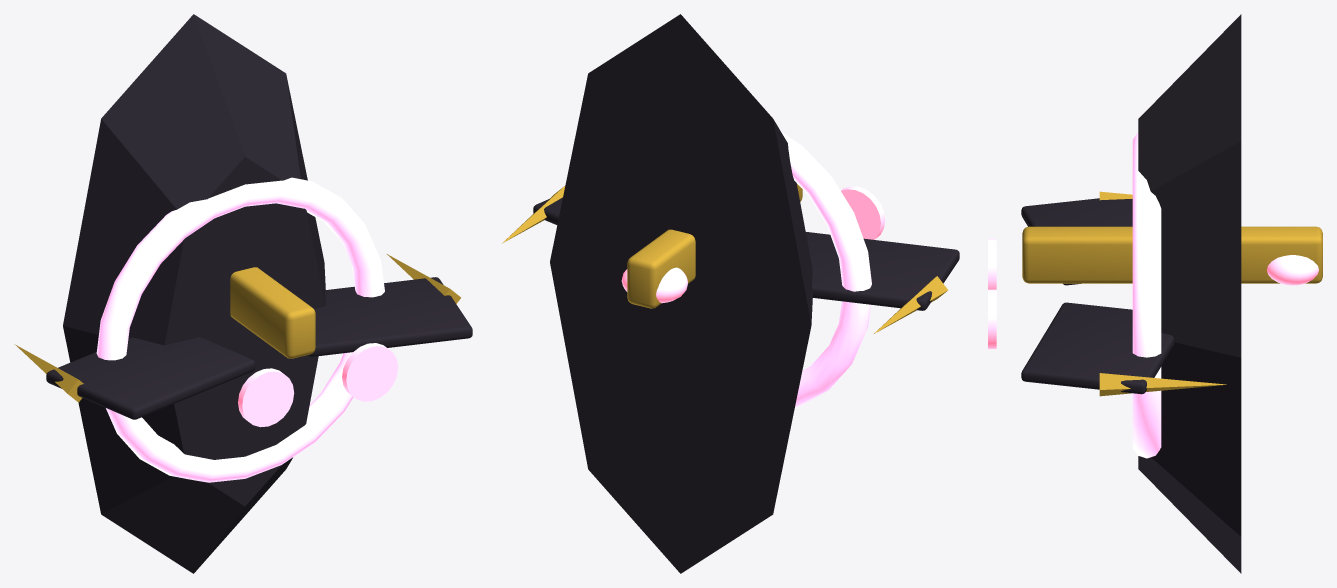
File: pirate_marauder.glb
3 renders of one model, left to right at view 1: azimuth 30°, elevation 25°; view 2: azimuth 150°, elevation 25°; view 3: azimuth 270°, elevation 25°, orthographic.
Visible parts, largest first — view 1: Hull, Ring, Wing-1, Wing1, Spine, Engine, Engine.001, Blade-1; view 2: Hull, Ring, Wing-1, Spine, Engine, Eye, Blade-1; view 3: Hull, Spine, Wing1, Ring, Wing-1, Blade1, Eye, Engine.001, Engine.
Boxes of the visible parts, x1=… form: Hull: x1=63, y1=14, x2=325, y2=573; Ring: x1=96, y1=177, x2=384, y2=482; Wing-1: x1=46, y1=337, x2=255, y2=419; Wing1: x1=308, y1=277, x2=472, y2=356; Spine: x1=230, y1=267, x2=315, y2=358; Engine: x1=238, y1=368, x2=294, y2=427; Engine.001: x1=342, y1=343, x2=398, y2=401; Blade-1: x1=14, y1=344, x2=83, y2=402; Hull: x1=550, y1=14, x2=812, y2=573; Ring: x1=781, y1=131, x2=871, y2=407; Wing-1: x1=805, y1=232, x2=959, y2=310; Spine: x1=627, y1=184, x2=802, y2=308; Engine: x1=841, y1=186, x2=885, y2=239; Eye: x1=621, y1=267, x2=687, y2=303; Blade-1: x1=874, y1=276, x2=947, y2=333; Hull: x1=1138, y1=14, x2=1241, y2=573; Spine: x1=1022, y1=226, x2=1322, y2=283; Wing1: x1=1021, y1=302, x2=1174, y2=394; Ring: x1=1132, y1=132, x2=1161, y2=458; Wing-1: x1=1021, y1=198, x2=1132, y2=285; Blade1: x1=1099, y1=373, x2=1226, y2=396; Eye: x1=1267, y1=255, x2=1318, y2=285; Engine.001: x1=988, y1=289, x2=996, y2=349; Engine: x1=988, y1=238, x2=996, y2=289.
Bounding box in the file's own units: 10.6 × 14.4 × 7.8.
